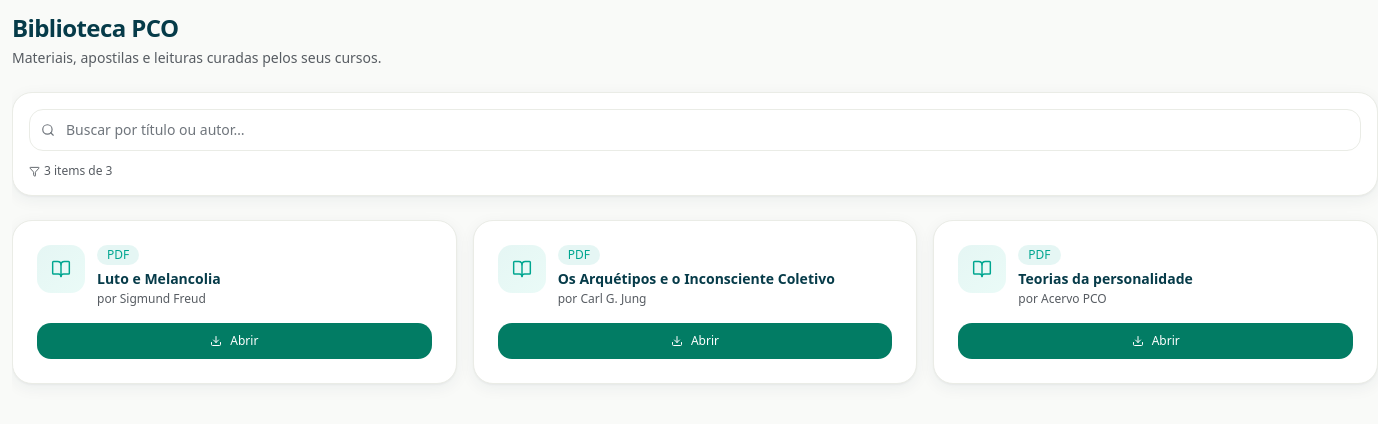
Test case: a busca acha o que 108 cartões escondem › não achar nada diz que foi a BUSCA, não que o acervo está vazio
Type "lacan" into the search field at (695, 130), box [29, 109, 1361, 151]
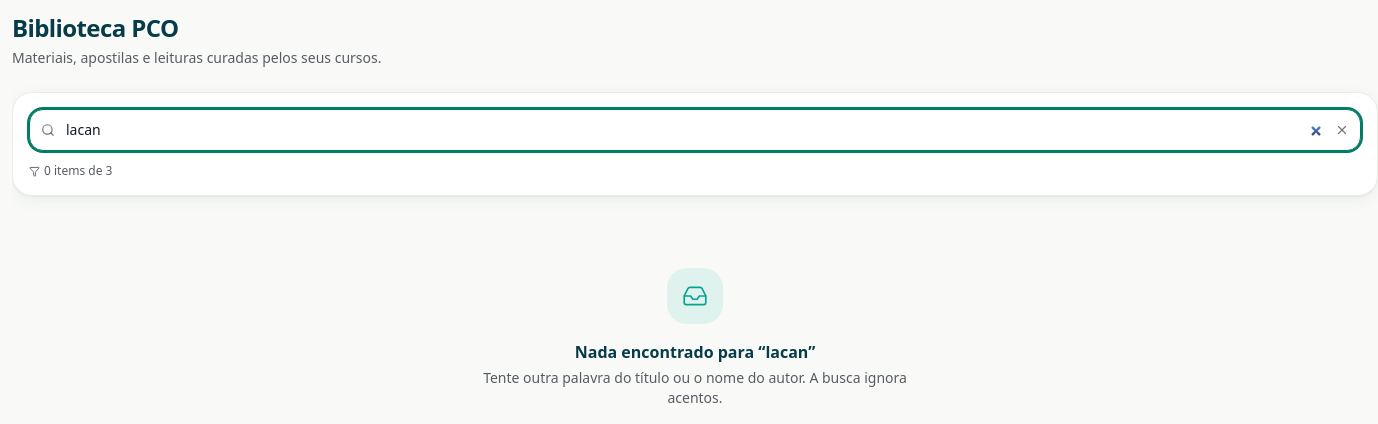
Result: the heading "Nada encontrado para “lacan”" is shown at [575, 341, 815, 363]
Result: the text "nome do autor" is shown at [483, 368, 907, 407]
